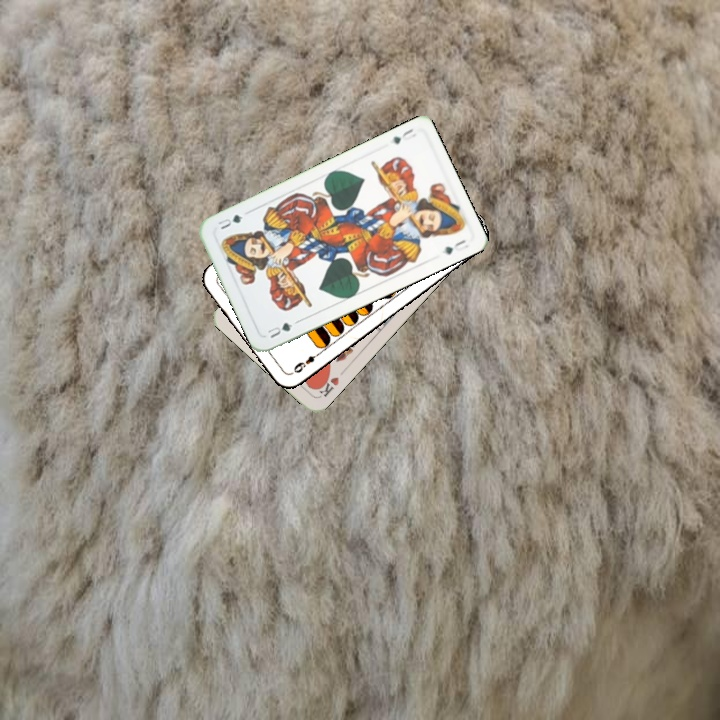E9: (289, 348, 324, 376)
GU: (263, 318, 295, 341), (389, 124, 419, 147)
HK: (312, 370, 342, 400)
